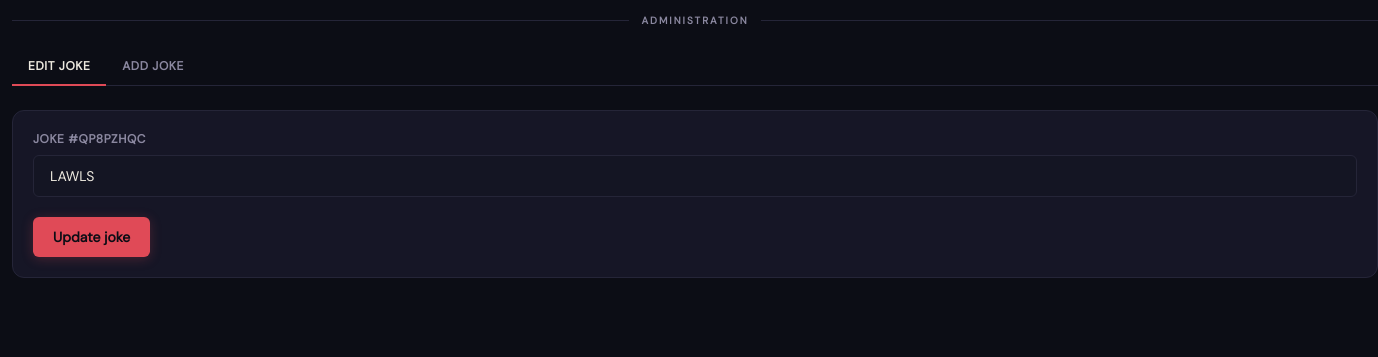
Scenario: Admin component › displays an error message when there is a failure adding a joke
The image size is (1378, 357).
Click the tab "Add joke". click: (153, 67)
box: [106,48,200,86]
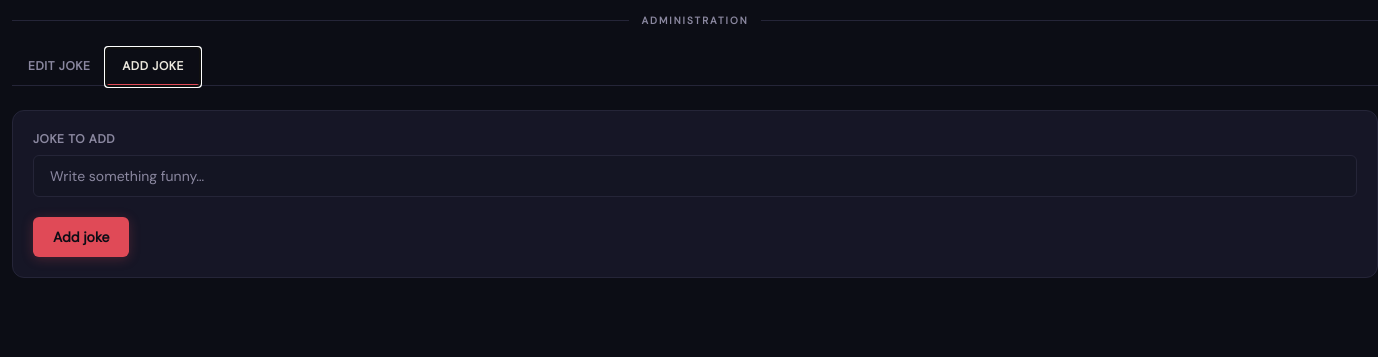
Type "LAWLS" into the field labelled "Joke to add". click: (695, 176)
box: [33,155,1357,197]
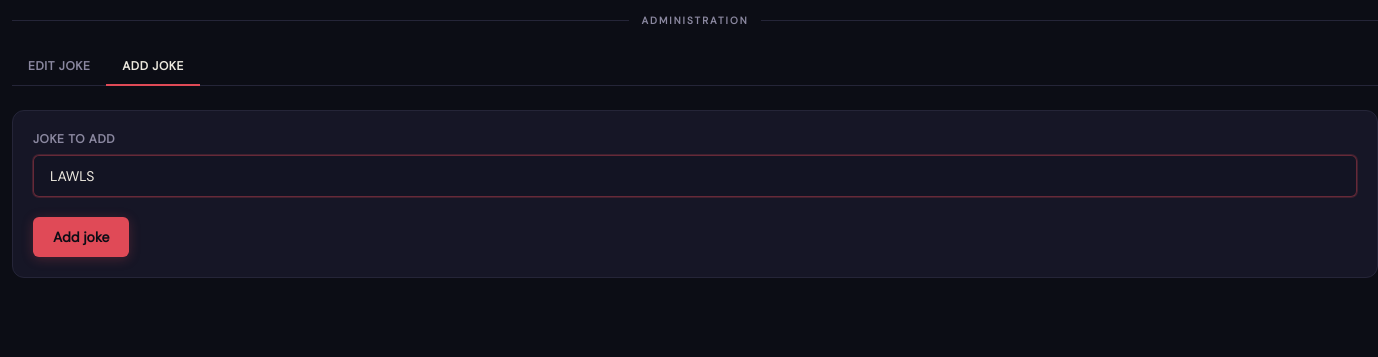
Click the button "Add joke". click: (81, 237)
box: [33,217,129,257]
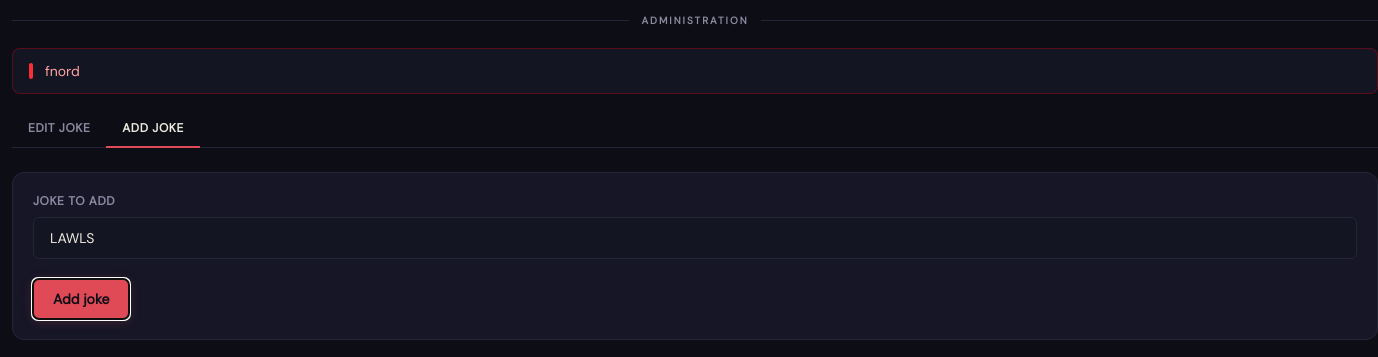
Expected: the text "fnord" is shown, [12,48,1377,94]
